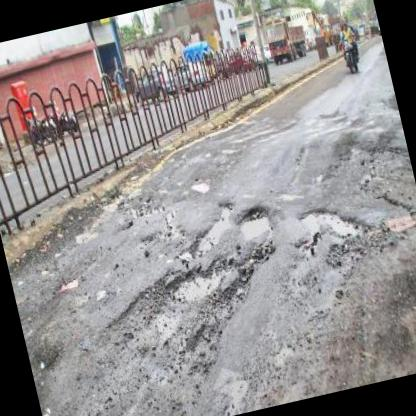pothole: (99, 250, 265, 348), (296, 198, 370, 252), (185, 196, 244, 254), (234, 201, 277, 244), (123, 197, 165, 223), (382, 207, 416, 234), (189, 175, 211, 197)
